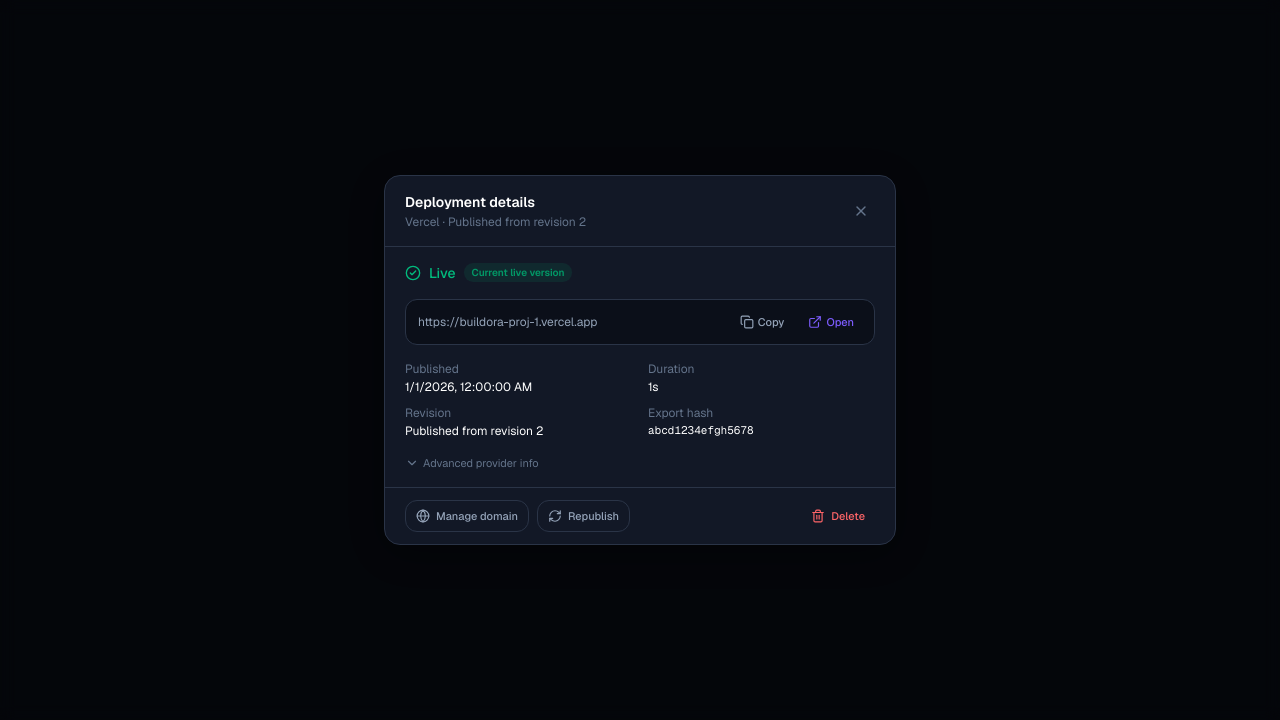
Test case: DeploymentDetailsDialog — actions › reveals advanced provider info on demand
Expected: the text "dpl_abc123" is not shown
Click the button "Advanced provider info" at (472, 463), box [405,455,539,471]
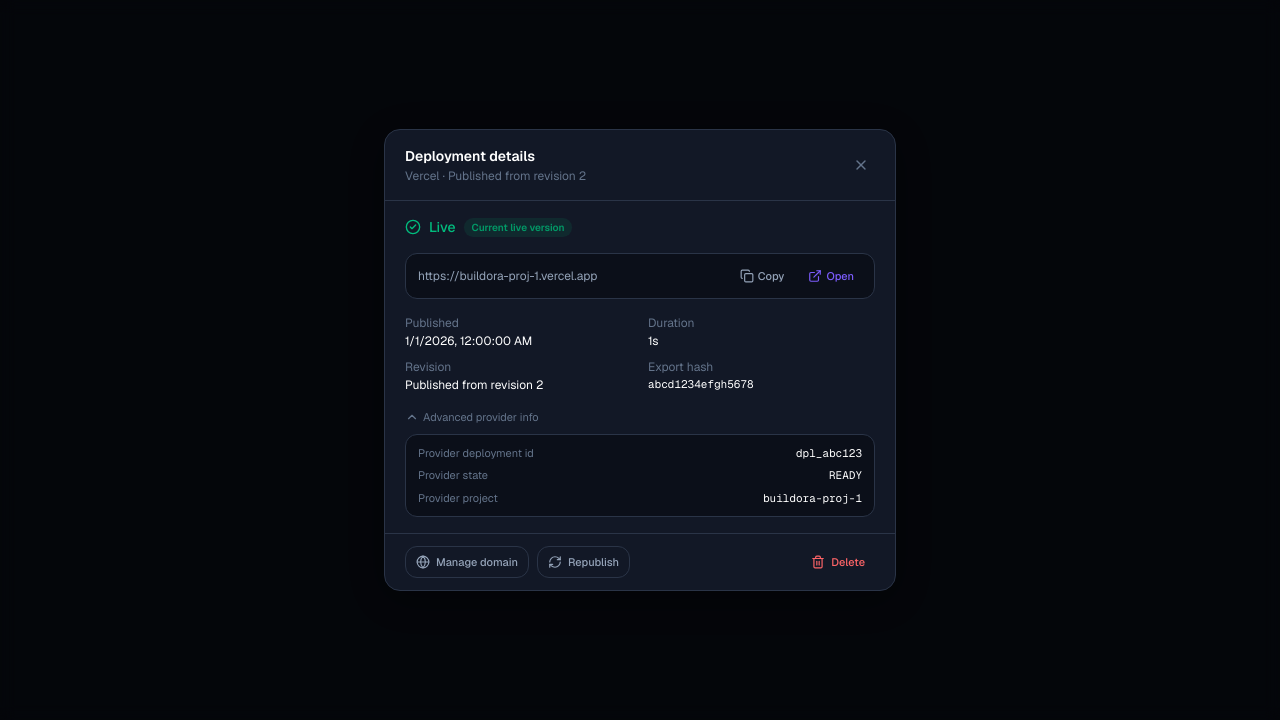
Now the text "dpl_abc123" is shown, box [796,444,862,461]
Now the text "READY" is shown, box [829,467,862,484]
